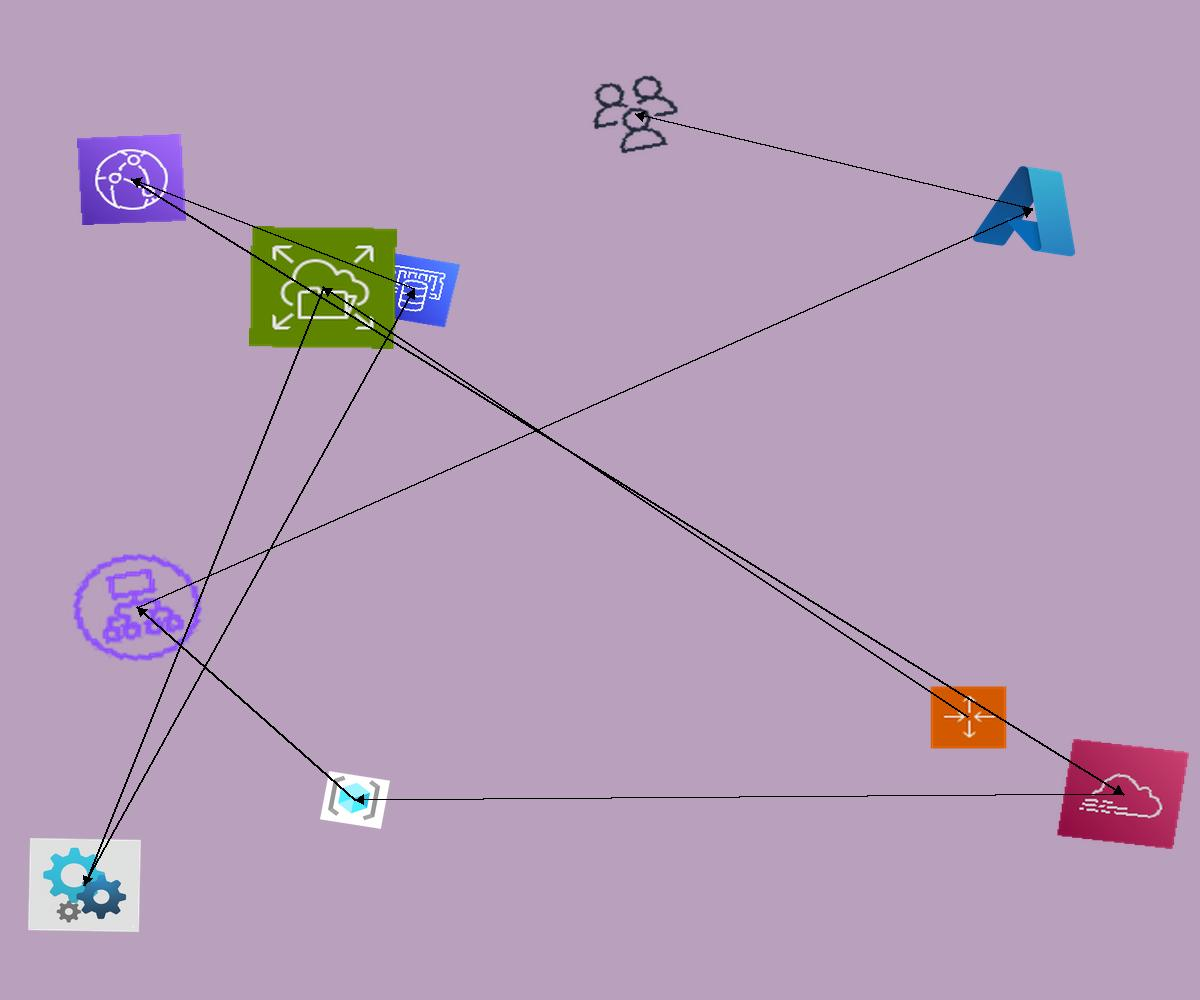AWS-CloudFront: (77, 134, 186, 225)
AWS-CloudTrail: (1056, 738, 1190, 850)
AWS-EFS: (249, 226, 397, 349)
AWS-ElastiCache: (368, 251, 461, 328)
AWS-Res_Elastic-Load-Balancing_Application-Load-Balancer: (54, 538, 221, 677)
AWS-Res_Users: (579, 68, 691, 161)
AWS-Scaling-group: (929, 685, 1008, 750)
Azure_api: (28, 838, 141, 932)
Azure_resource_group: (320, 771, 390, 829)
Azure_services: (966, 154, 1098, 264)
